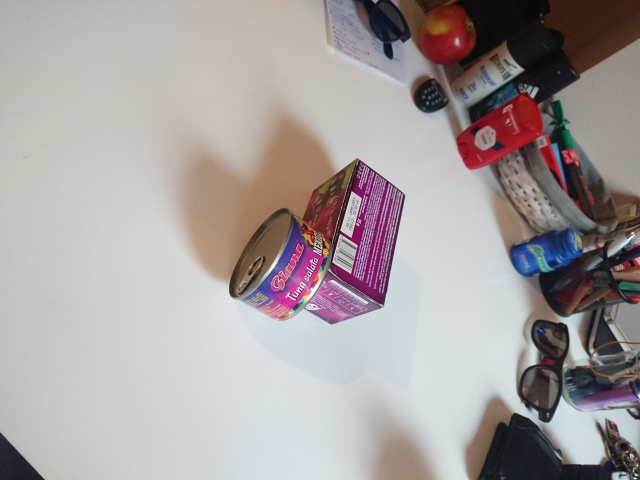Franck Black Currant Tea 60g: (278, 156, 408, 326)
Giana Tuna Salad Mexico 185g: (227, 205, 336, 322)
